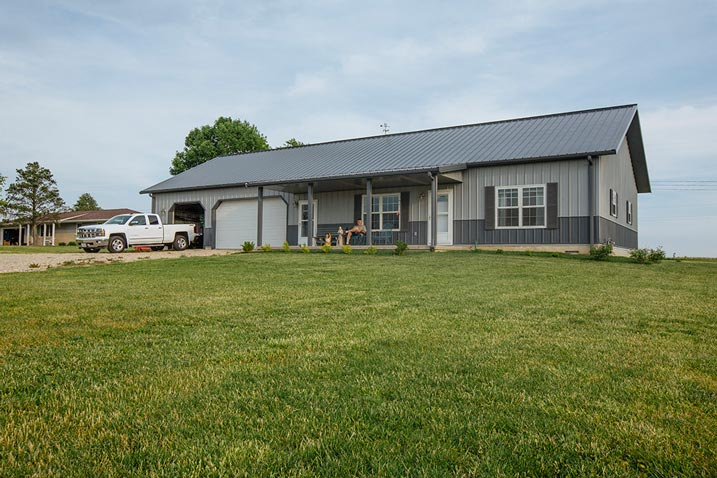Tin-shade House: (134, 101, 654, 256)
